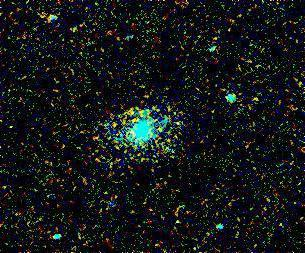star: (0, 110, 27, 140)
